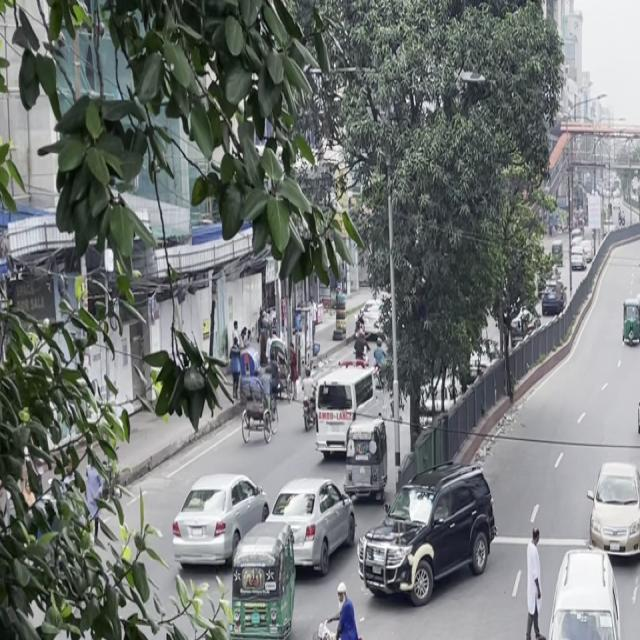bicycle: (298, 593, 387, 640)
car: (356, 460, 497, 609), (166, 464, 269, 581), (531, 543, 632, 640), (268, 473, 356, 581), (310, 362, 381, 462), (584, 450, 640, 569), (340, 408, 390, 506), (622, 292, 640, 348), (634, 370, 640, 462)
